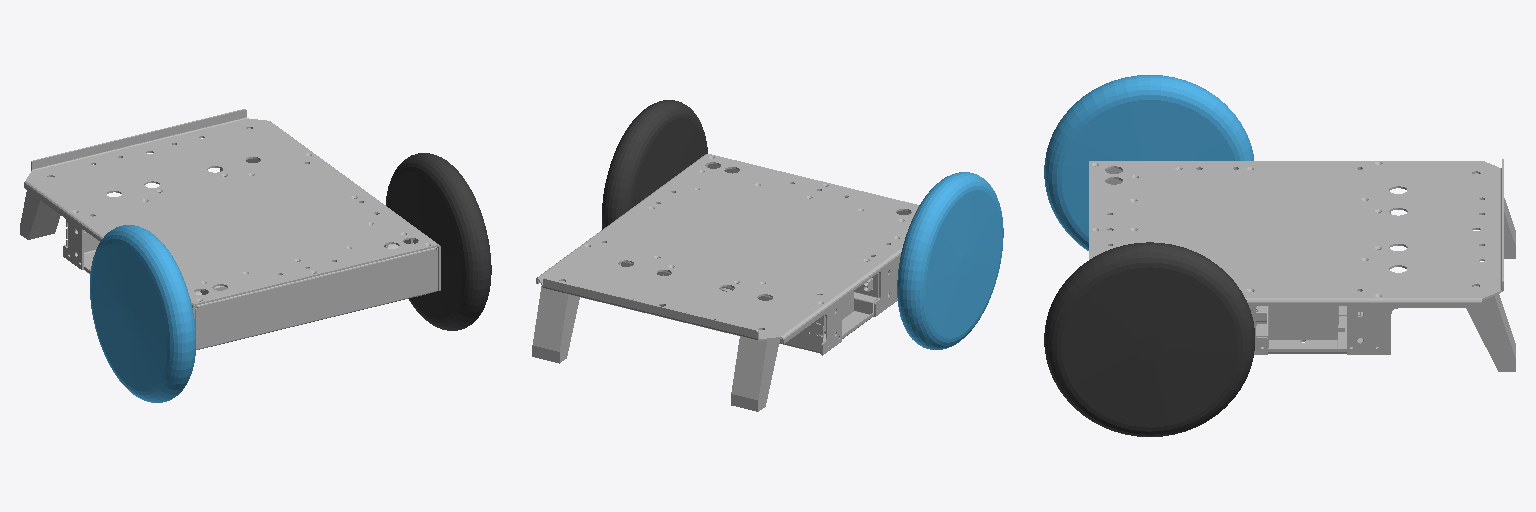
robot.urdf — dpr4_description:
<?xml version="1.0" encoding="UTF-8"?>
<robot name="dpr4_description">

  <!-- Colors -->
  <gazebo reference="front_wheel_left">
    <material>Gazebo/DarkGrey</material>
  </gazebo>
  <gazebo reference="front_wheel_right">
    <material>Gazebo/DarkGrey</material>
  </gazebo>
  <gazebo reference="yoke_left">
    <material>Gazebo/FlatBlack</material>
  </gazebo>
  <gazebo reference="yoke_right">
    <material>Gazebo/FlatBlack</material>
  </gazebo>
  <gazebo reference="back_wheel_right">
    <material>Gazebo/Grey</material>
  </gazebo>
  <gazebo reference="back_wheel_left">
    <material>Gazebo/Grey</material>
  </gazebo>
  <gazebo reference="base_link">
    <material>Gazebo/Grey</material>
  </gazebo>

  <!-- Links -->
  <!-- Main part of the base. -->
  <link name="base_link">
    <inertial>
      <origin xyz="0 0.23146 0.14798" rpy="0 0 0" />
      <mass value="12.0" />
      <inertia ixx="1.30161345" ixy="-0.00690756" ixz="-0.00131153" iyy="0.47311975" iyz="0.47495754" izz="1.25649724" />
    </inertial>
    <visual>
      <origin xyz="0 0 0" rpy="0 0 0" />
      <geometry>
        <mesh filename="package://dpr4_description/meshes/base_link.stl" />
      </geometry>
      <material name="">
        <color rgba="0.752941176470588 0.752941176470588 0.752941176470588 1" />
      </material>
    </visual>
    <collision>
      <origin xyz="0 0 0" rpy="0 0 0" />
      <geometry>
        <mesh filename="package://dpr4_description/meshes/base_link.stl" />
      </geometry>
    </collision>
  </link>
  <!-- The big wheel on front, used to move the robot -->
  <link name="front_wheel_left">
    <inertial>
      <origin xyz="0 0 0" rpy="0 0 0" />
      <mass value="1.98850951394841" />
      <inertia ixx="0.0254040000000000" ixy="0.0000000000000000" ixz="0.0000000000000000" iyy="0.0130220000000000" iyz="0.0000000000000000" izz="0.0130220000000000" />
    </inertial>
    <visual>
      <origin xyz="0 0 0" rpy="0 0 0" />
      <geometry>
        <mesh filename="package://dpr4_description/meshes/front_wheel.stl" />
      </geometry>
      <material name=""> Gazebo/Blue </material>
    </visual>
    <collision>
      <origin xyz="0 0 0" rpy="0 0 0" />
      <geometry>
        <mesh filename="package://dpr4_description/meshes/front_wheel.stl" />
      </geometry>
    </collision>
  </link>
  <!-- The big wheel on front, used to move the robot -->
  <link name="front_wheel_right">
    <inertial>
      <origin xyz="0 0 0" rpy="0 0 0" />
      <mass value="1.98850951394841" />
      <inertia ixx="0.0254040000000000" ixy="0.0000000000000000" ixz="0.0000000000000000" iyy="0.0130220000000000" iyz="0.0000000000000000" izz="0.0130220000000000" />
    </inertial>
    <visual>
      <origin xyz="0 0 0" rpy="0 0 0" />
      <geometry>
        <mesh filename="package://dpr4_description/meshes/front_wheel.stl" />
      </geometry>
      <material name="">
        <color rgba="0.294117647058824 0.294117647058824 0.294117647058824 1" />
      </material>
    </visual>
    <collision>
      <origin xyz="0 0 0" rpy="0 0 0" />
      <geometry>
        <mesh filename="package://dpr4_description/meshes/front_wheel.stl" />
      </geometry>
    </collision>
  </link>
  <!-- The part connecting the back wheel to the base -->
  <link name="yoke_left">
    <inertial>
      <origin xyz="0 0.01701 -0.04258" rpy="0 0 0" />
      <mass value="0.027578120885064" />
      <inertia ixx="0.00004501" ixy="0.0000000000000000" ixz="0.0000000000000000" iyy="0.00004508" iyz="-0.00001339" izz="0.00002122" />
    </inertial>
    <visual>
      <origin xyz="0 0 0" rpy="0 0 0" />
      <geometry>
        <mesh filename="package://dpr4_description/meshes/yoke.stl" />
      </geometry>
      <material name="">
        <color rgba="0.752941176470588 0.752941176470588 0.752941176470588 1" />
      </material>
    </visual>
    <collision>
      <origin xyz="0 0 0" rpy="0 0 0" />
      <geometry>
        <mesh filename="package://dpr4_description/meshes/yoke.stl" />
      </geometry>
    </collision>
  </link>
  <!-- The part connecting the back wheel to the base -->
  <link name="yoke_right">
    <inertial>
      <origin xyz="0 0.01701 -0.04258" rpy="0 0 0" />
      <mass value="0.0275781208850642" />
      <inertia ixx="0.0000770000000000" ixy="0.0000000000000000" ixz="0.0000000000000000" iyy="0.0000750000000000" iyz="-0.0000250000000000" izz="0.0000260000000000" />
    </inertial>
    <visual>
      <origin xyz="0 0 0" rpy="0 0 0" />
      <geometry>
        <mesh filename="package://dpr4_description/meshes/yoke.stl" />
      </geometry>
      <material name="">
        <color rgba="0.752941176470588 0.752941176470588 0.752941176470588 1" />
      </material>
    </visual>
    <collision>
      <origin xyz="0 0 0" rpy="0 0 0" />
      <geometry>
        <mesh filename="package://dpr4_description/meshes/yoke.stl" />
      </geometry>
    </collision>
  </link>
  <!-- The small wheel on the back -->
  <link name="back_wheel_left">
    <inertial>
      <origin xyz="0 0 0" rpy="0 0 0" />
      <mass value="0.2926460297435" />
      <inertia ixx="0.0009700000000000" ixy="0.0000000000000000" ixz="0.0000000000000000" iyy="0.0005000000000000" iyz="0.0000000000000000" izz="0.0005000000000000" />
    </inertial>
    <visual>
      <origin xyz="0 0 0" rpy="0 0 0" />
      <geometry>
        <mesh filename="package://dpr4_description/meshes/back_wheel.stl" />
      </geometry>
      <material name="">
        <color rgba="0.294117647058824 0.294117647058824 0.294117647058824 1" />
      </material>
    </visual>
    <collision>
      <origin xyz="0 0 0" rpy="0 0 0" />
      <geometry>
        <mesh filename="package://dpr4_description/meshes/back_wheel.stl" />
      </geometry>
    </collision>
  </link>
  <!-- The small wheel on the back -->
  <link name="back_wheel_right">
    <inertial>
      <origin xyz="0 0 0" rpy="0 0 0" />
      <mass value="0.29264656535805" />
      <inertia ixx="0.0009700000000000" ixy="0.0000000000000000" ixz="0.0000000000000000" iyy="0.0005000000000000" iyz="0.0000000000000000" izz="0.0005000000000000" />
    </inertial>
    <visual>
      <origin xyz="0 0 0" rpy="0 0 0" />
      <geometry>
        <mesh filename="package://dpr4_description/meshes/back_wheel.stl" />
      </geometry>
      <material name="">
        <color rgba="0.294117647058824 0.294117647058824 0.294117647058824 1" />
      </material>
    </visual>
    <collision>
      <origin xyz="0 0 0" rpy="0 0 0" />
      <geometry>
        <mesh filename="package://dpr4_description/meshes/back_wheel.stl" />
      </geometry>
    </collision>
  </link>

  <!-- The joints -->
  <joint name="front_wheel_left_joint" type="continuous">
    <origin xyz="-0.272 0.084 0.145" rpy="0 0 0" />
    <parent link="base_link" />
    <child link="front_wheel_left" />
    <axis xyz="-1 0 0" />
  </joint>
  <joint name="front_wheel_right_joint" type="continuous">
    <origin xyz="0.272 0.084 0.145" rpy="0 0 0" />
    <parent link="base_link" />
    <child link="front_wheel_right" />
    <axis xyz="-1 0 0" />
  </joint>
  <joint name="yoke_left_joint" type="continuous">
    <origin xyz="-0.183 0.532 0.182" rpy="0 0 0" />
    <parent link="base_link" />
    <child link="yoke_left" />
    <axis xyz="0 0 1" />
  </joint>
  <joint name="yoke_right_joint" type="continuous">
    <origin xyz="0.183 0.532 0.182" rpy="0 0 0" />
    <parent link="base_link" />
    <child link="yoke_right" />
    <axis xyz="0 0 1" />
  </joint>
  <joint name="back_wheel_left_joint" type="continuous">
    <origin xyz="0 0.04025 -0.105" rpy="0 0 0" />
    <parent link="yoke_left" />
    <child link="back_wheel_left" />
    <axis xyz="-1 0 0" />
  </joint>
  <joint name="back_wheel_right_joint" type="continuous">
    <origin xyz="0 0.04025 -0.105" rpy="0 0 0" />
    <parent link="yoke_right" />
    <child link="back_wheel_right" />
    <axis xyz="-1 0 0" />
  </joint>
</robot>

--- Facts derived from the render (not from the file) ---
The picture shows the robot from 3 angles, left to right: view 1: azimuth 30°, elevation 25°; view 2: azimuth 150°, elevation 25°; view 3: azimuth 270°, elevation 25°; orthographic projection.
Robot: dpr4_description — 7 links, 6 joints (6 continuous); root link base_link; default pose: all joints at 0.
Visible links, largest first — view 1: base_link, front_wheel_left, front_wheel_right, yoke_left; view 2: base_link, front_wheel_left, front_wheel_right, yoke_left, yoke_right; view 3: base_link, front_wheel_right, front_wheel_left, yoke_right, yoke_left.
Link boxes in pixels (x1=…): base_link: x1=24, y1=109, x2=440, y2=349; front_wheel_left: x1=90, y1=225, x2=195, y2=402; front_wheel_right: x1=386, y1=153, x2=491, y2=330; yoke_left: x1=20, y1=177, x2=60, y2=239; base_link: x1=536, y1=154, x2=918, y2=355; front_wheel_left: x1=897, y1=172, x2=1003, y2=349; front_wheel_right: x1=602, y1=100, x2=707, y2=229; yoke_left: x1=731, y1=330, x2=779, y2=411; yoke_right: x1=532, y1=281, x2=579, y2=363; base_link: x1=1089, y1=159, x2=1503, y2=354; front_wheel_right: x1=1044, y1=242, x2=1254, y2=436; front_wheel_left: x1=1044, y1=75, x2=1253, y2=250; yoke_right: x1=1466, y1=286, x2=1515, y2=371; yoke_left: x1=1473, y1=173, x2=1515, y2=258.
Size in the robot's own frame: 0.598 by 0.6463 by 0.2895 metres.
5 mesh visuals loaded from 4 distinct referenced files (3 binary STL); not drawn: 2 (reference not matched to a file when rendering).